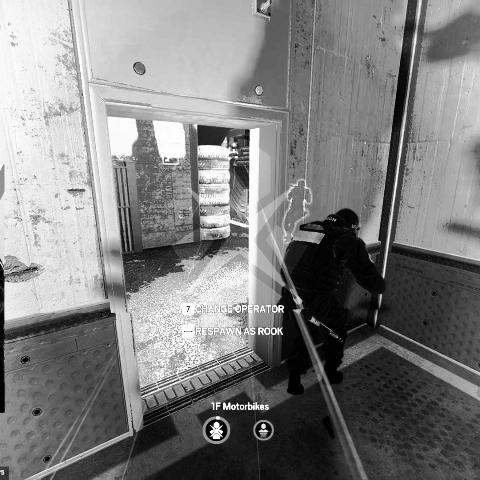Character: (276, 204, 387, 397), (228, 140, 240, 166)
Head: (331, 207, 363, 235), (230, 142, 238, 149)
